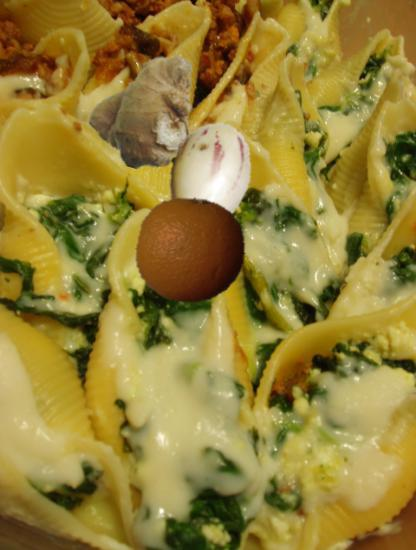Ginger: (84, 46, 207, 169)
Orange: (135, 194, 247, 306)
Pepino: (152, 120, 266, 234)
